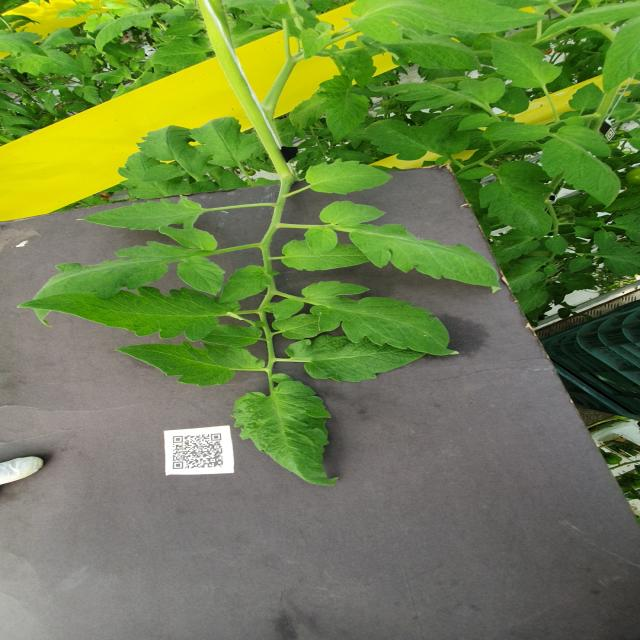Healthy Leaf: (306, 202, 505, 295), (29, 240, 226, 330), (300, 280, 462, 362), (15, 287, 234, 346), (231, 381, 345, 489), (344, 1, 551, 46), (457, 162, 557, 243), (116, 338, 266, 391), (541, 126, 626, 212), (285, 335, 430, 384), (72, 196, 205, 236), (361, 117, 472, 162), (490, 37, 566, 92), (137, 125, 209, 183), (192, 115, 260, 169), (305, 159, 395, 197), (281, 239, 371, 274), (319, 92, 371, 144), (220, 265, 275, 307), (506, 257, 558, 294), (156, 225, 219, 253), (271, 313, 325, 341), (299, 28, 334, 62), (492, 123, 551, 143), (569, 81, 605, 113), (498, 87, 532, 115), (274, 297, 306, 322), (73, 85, 102, 107), (544, 235, 571, 256), (571, 257, 595, 276)
